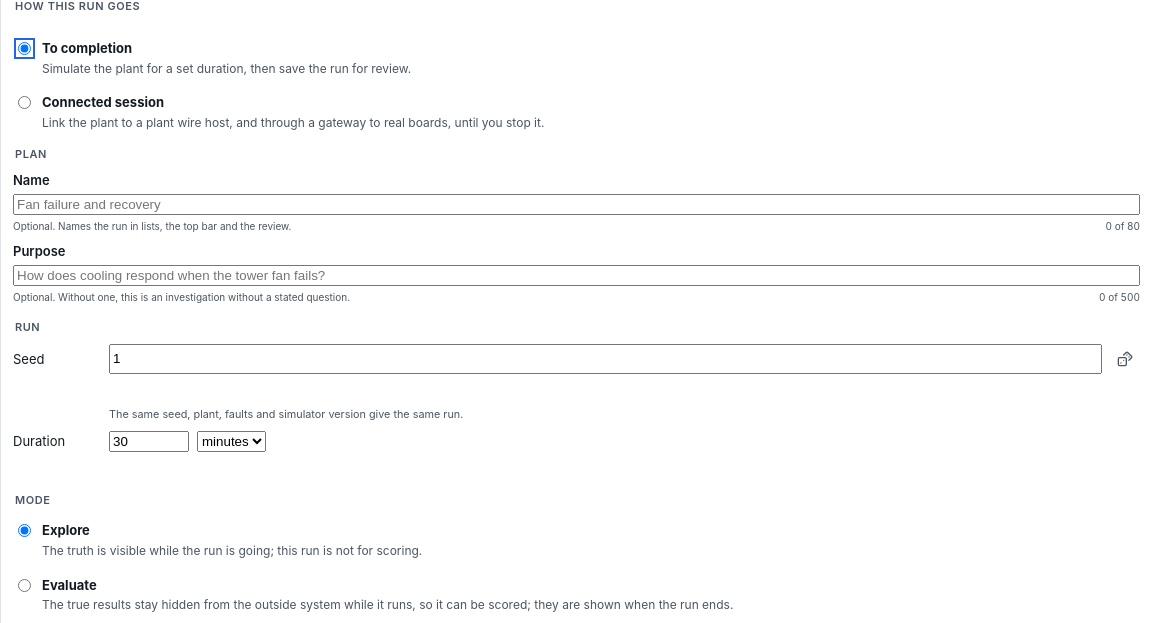
Scenario: launch panel › offers to watch the run by default, says how long that takes, and can run as fast as possible
This screenshot has width=1152, height=623.
Step 1. Replace the text in the field labelled "Duration" with "10" → point(149, 442), box [109, 431, 189, 452]
(page scrolled)
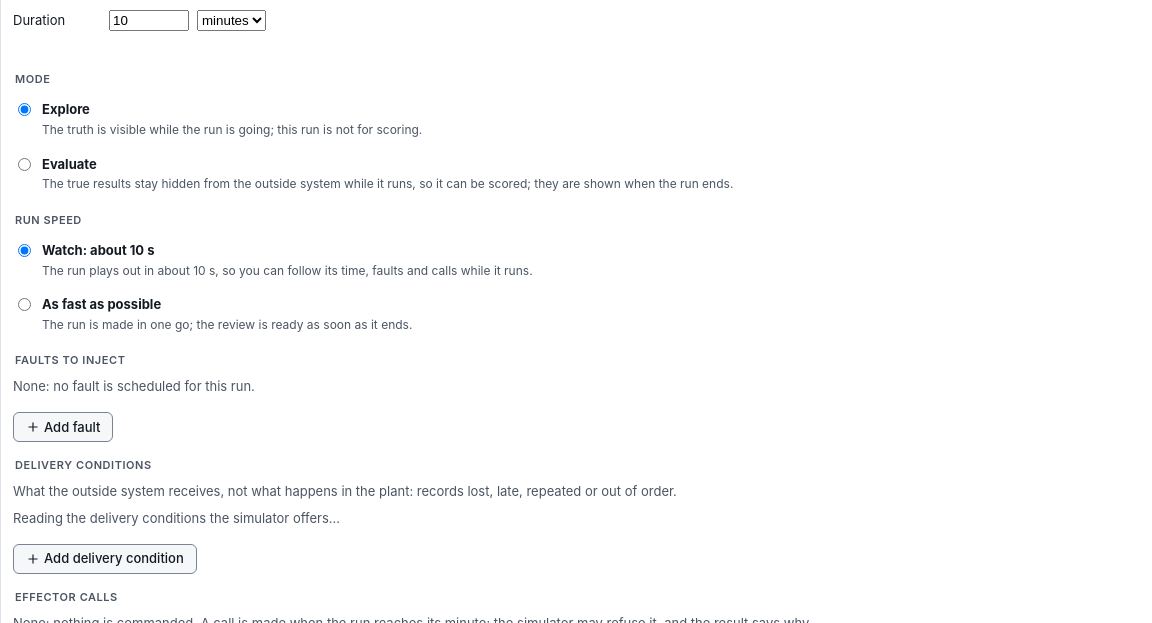
Expected: the radio button labelled "Watch: about 10 s" is checked, [18, 244, 31, 257]
Step 2. Click the radio button labelled "As fast as possible" → point(24, 304), box [18, 298, 31, 311]
(page scrolled)
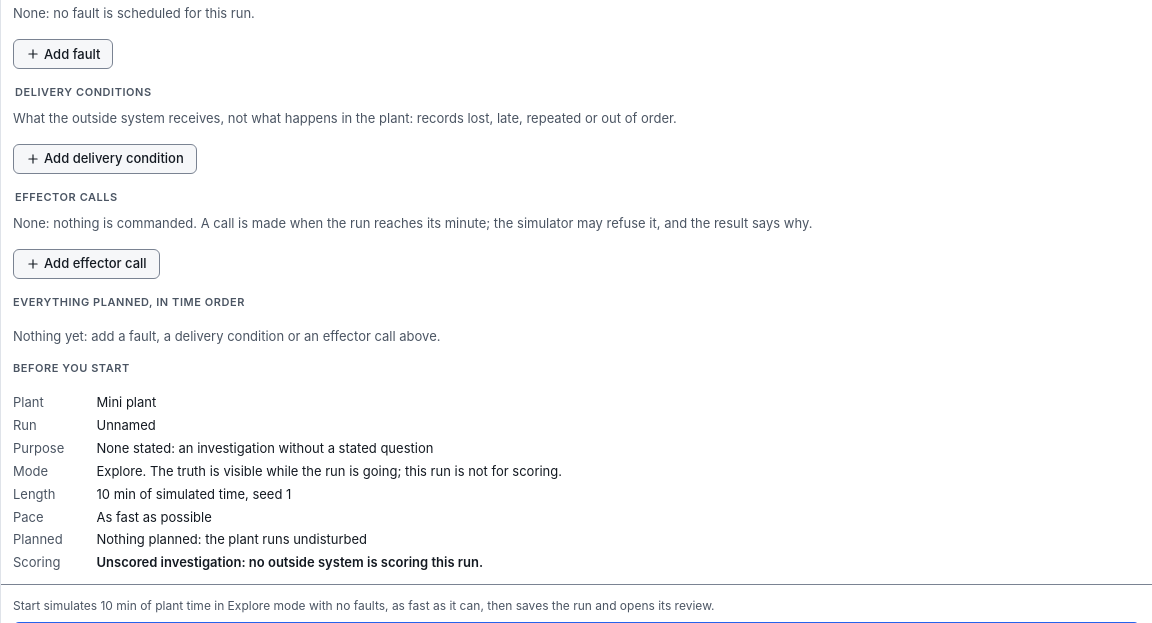
Now the text "as fast as it can" is shown, box [13, 598, 714, 613]
